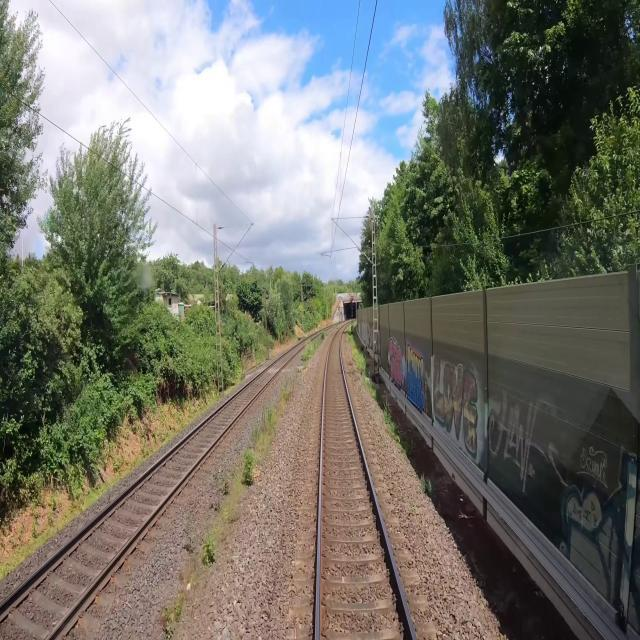Plant: (159, 590, 185, 639), (252, 406, 278, 454), (301, 331, 326, 361), (200, 537, 217, 569), (242, 449, 256, 484), (280, 385, 293, 403), (220, 506, 230, 523), (222, 480, 230, 495)
